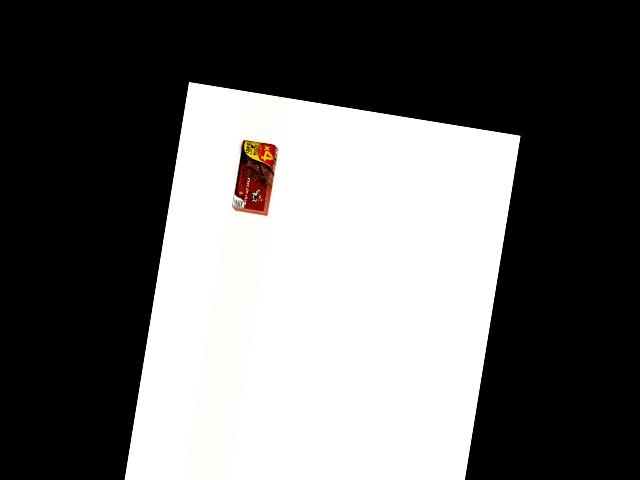chocolate: (230, 138, 278, 214)
